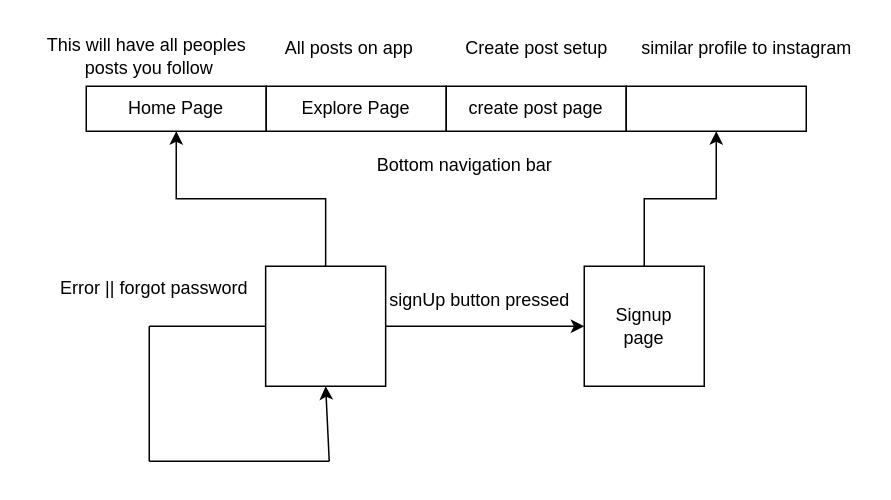
Image size: 891x500. Some labels were removed from this diagram. The shapes that lost their labels are listed below. From the top down, each one's centre as x and y in pixels, then its label:
At [715,108]: "Profile page".
At [325,325]: "Login Page".
